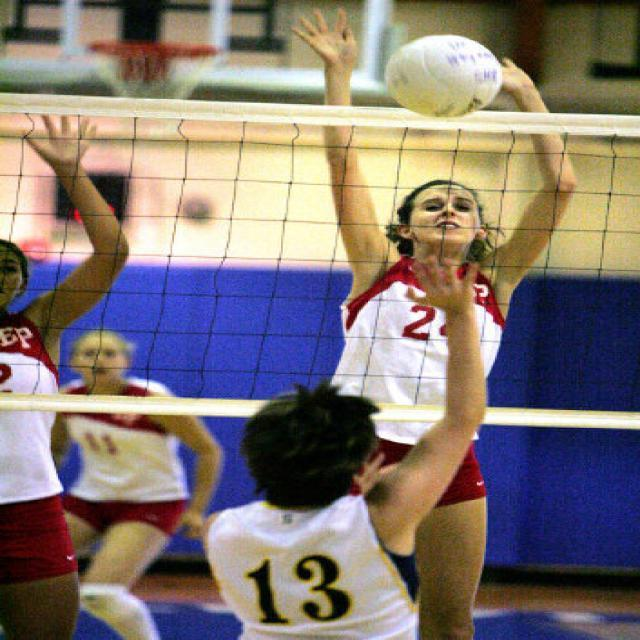volleyball: (385, 36, 503, 117)
